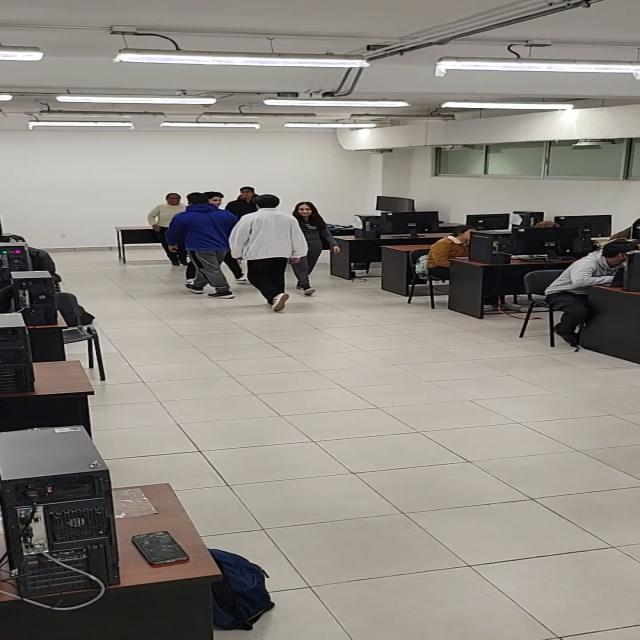Persona: (233, 193, 302, 314), (171, 191, 237, 303), (293, 194, 336, 297), (146, 187, 182, 266)
